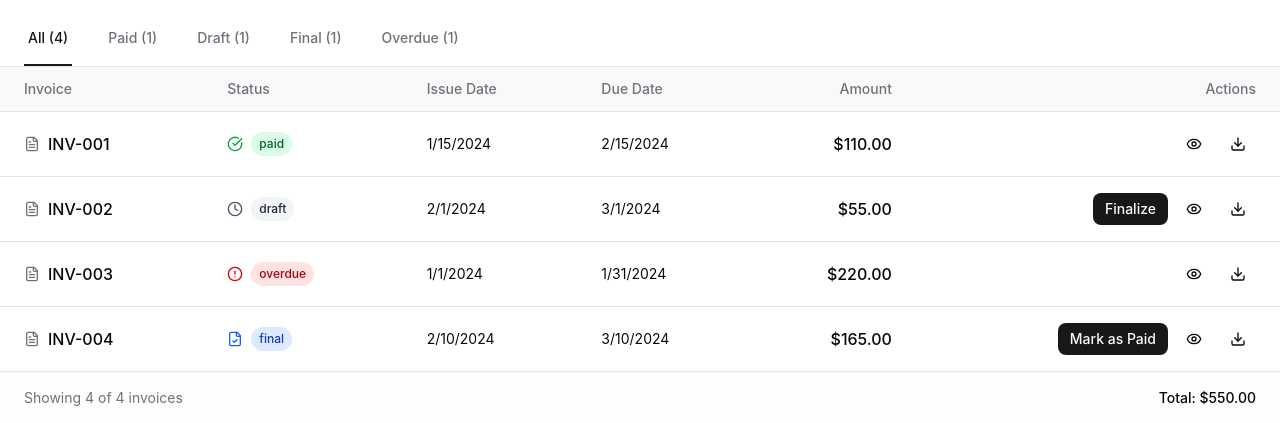
OrganizationInvoiceHistory › Filter Tabs › should filter invoices by status when tab is clicked
Click on Paid tab
Click the button "Paid (1)": (133, 39) left=104, top=12, right=161, bottom=66
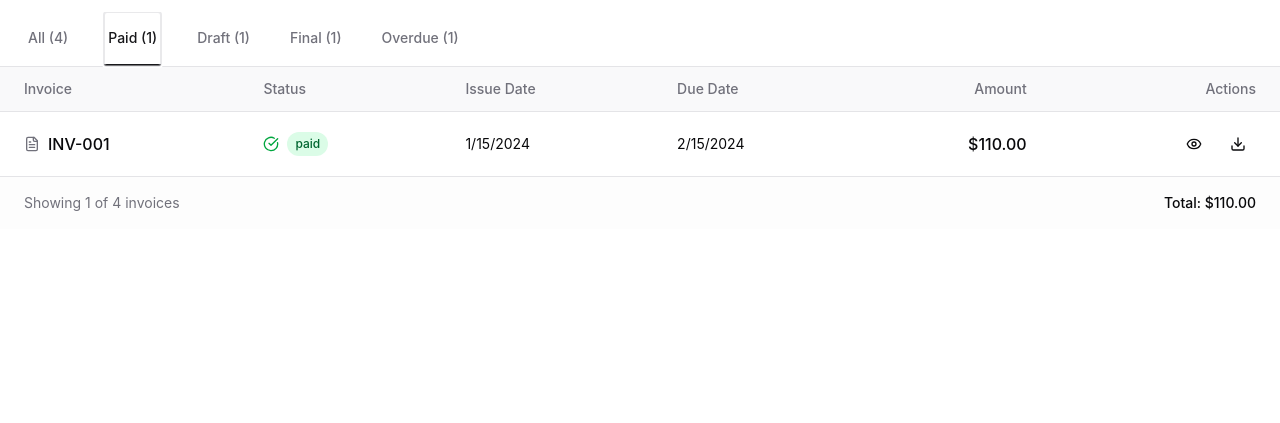
Check: the text "INV-001" is shown, box left=48, top=132, right=110, bottom=156
Check: the text "INV-002" is gone
Check: the text "INV-003" is gone
